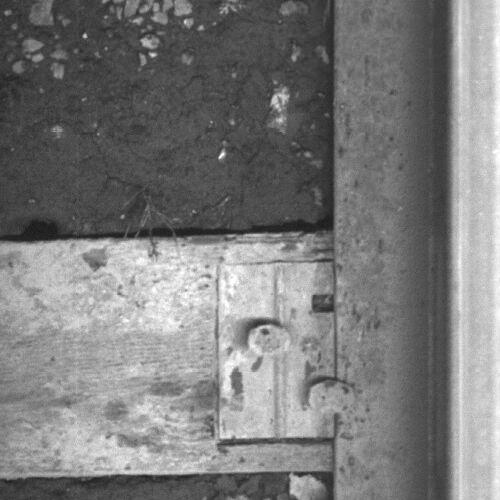do: (218, 261, 357, 438)
hole_do: (303, 284, 345, 323)
rail: (447, 1, 500, 500)
tie_wood: (1, 236, 337, 474)
